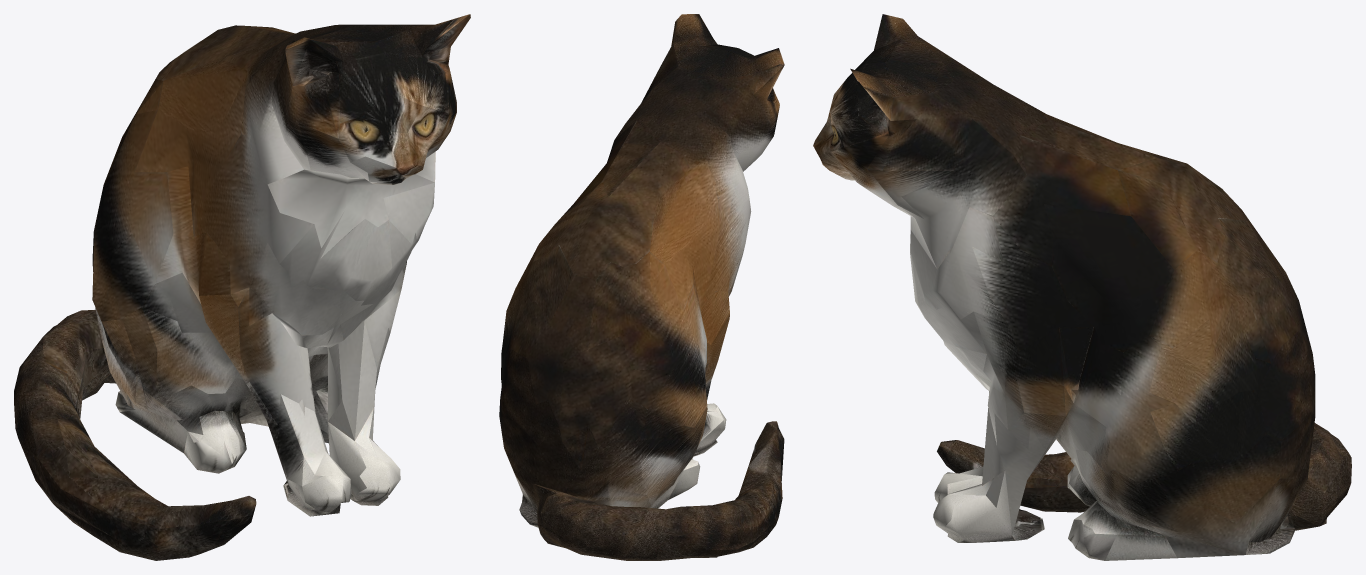
Rendered from mike.glb.
3 renders of one model, left to right at view 1: azimuth 30°, elevation 25°; view 2: azimuth 150°, elevation 25°; view 3: azimuth 270°, elevation 25°, orthographic. The views are drawn at different scales.
Parts seen in each view (by area): view 1: Mesh_0; view 2: Mesh_0; view 3: Mesh_0.
Part boxes in pixels (x1=…): Mesh_0: x1=14, y1=14, x2=470, y2=560; Mesh_0: x1=499, y1=14, x2=784, y2=560; Mesh_0: x1=813, y1=14, x2=1351, y2=560.
Bounding box in the file's own units: 0.2227 × 0.3793 × 0.3503.
1 material, 1 textured.
